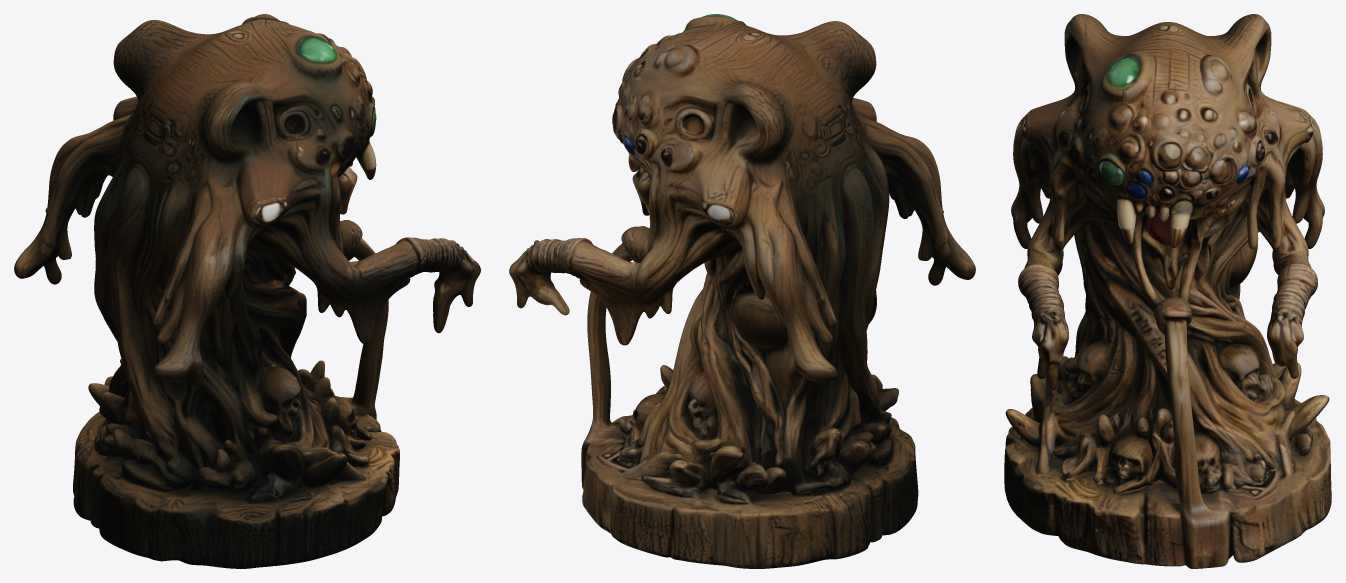
File: fantasy+creature+3d+model.glb
3 views of the same model, side by side, from view 1: azimuth 30°, elevation 25°; view 2: azimuth 150°, elevation 25°; view 3: azimuth 270°, elevation 25° (orthographic).
Parts seen in each view (by area): view 1: tripo_node_2b08a786-663d-4208-b762-890fdbd1481c; view 2: tripo_node_2b08a786-663d-4208-b762-890fdbd1481c; view 3: tripo_node_2b08a786-663d-4208-b762-890fdbd1481c.
Part boxes in pixels (x1=…): tripo_node_2b08a786-663d-4208-b762-890fdbd1481c: x1=14, y1=14, x2=480, y2=568; tripo_node_2b08a786-663d-4208-b762-890fdbd1481c: x1=509, y1=14, x2=975, y2=568; tripo_node_2b08a786-663d-4208-b762-890fdbd1481c: x1=1004, y1=14, x2=1331, y2=568.
Size of the model in its own units: 0.7419 by 1 by 0.6288.
Materials: 1 (1 with a texture image).
